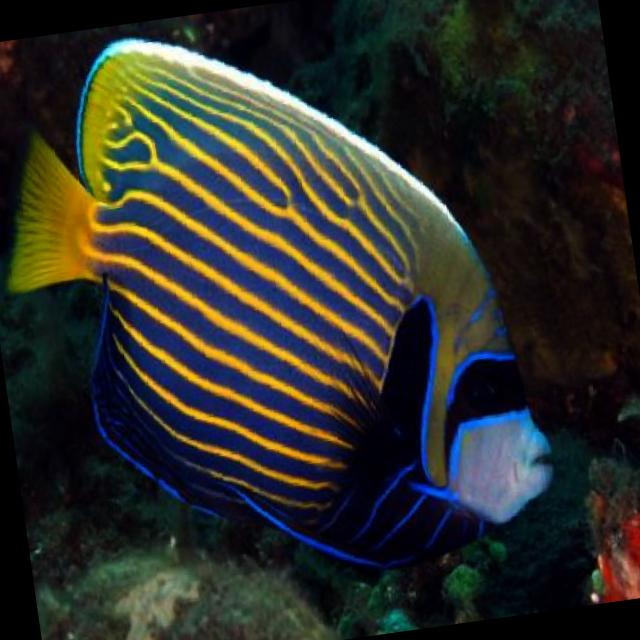AngelFish: (0, 0, 569, 618)
